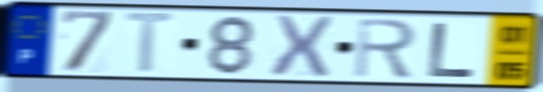7: (59, 9, 118, 75)
8: (204, 14, 260, 77)
L: (425, 20, 479, 79)
R: (352, 16, 420, 80)
T: (120, 9, 181, 76)
X: (268, 13, 336, 80)
